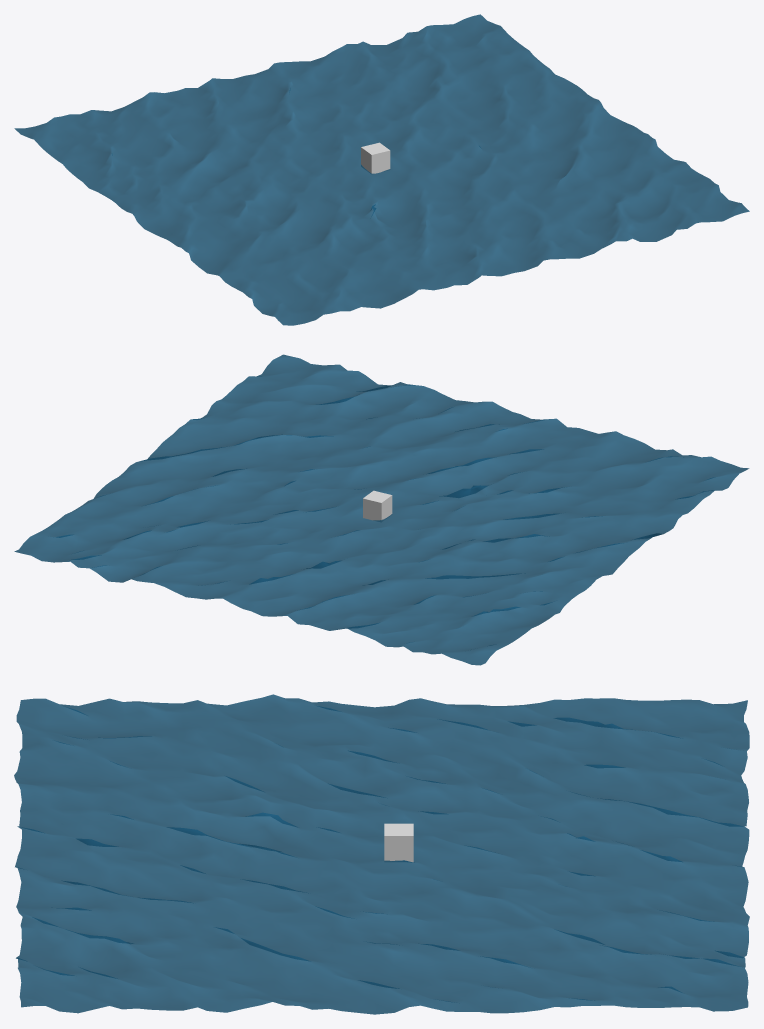
File: sea.fbx
3 renders of one model, top to bottom at view 1: azimuth 30°, elevation 25°; view 2: azimuth 150°, elevation 25°; view 3: azimuth 270°, elevation 25°, orthographic. The views are drawn at different scales.
Visible parts, largest first — view 1: OceanSurface, Cube; view 2: OceanSurface, Cube; view 3: OceanSurface, Cube.
Boxes of the visible parts, x1=… form: OceanSurface: x1=14, y1=14, x2=749, y2=325; Cube: x1=361, y1=142, x2=390, y2=173; OceanSurface: x1=14, y1=354, x2=749, y2=665; Cube: x1=363, y1=490, x2=392, y2=520; OceanSurface: x1=14, y1=694, x2=749, y2=1014; Cube: x1=384, y1=823, x2=413, y2=862.
Size of what is drawn, in the model's own units: 5066 by 268 by 5060.
